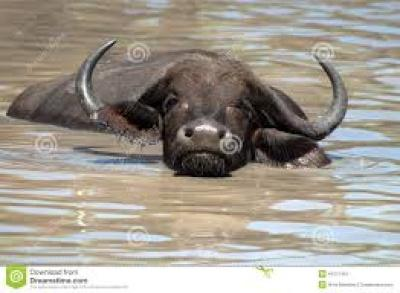buffalo: (6, 39, 347, 176)
